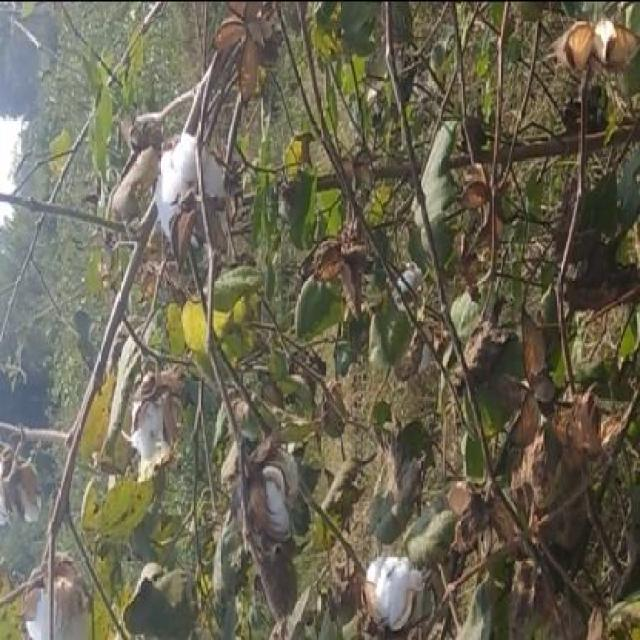cotton_ready: (148, 133, 226, 265), (350, 522, 424, 640)
